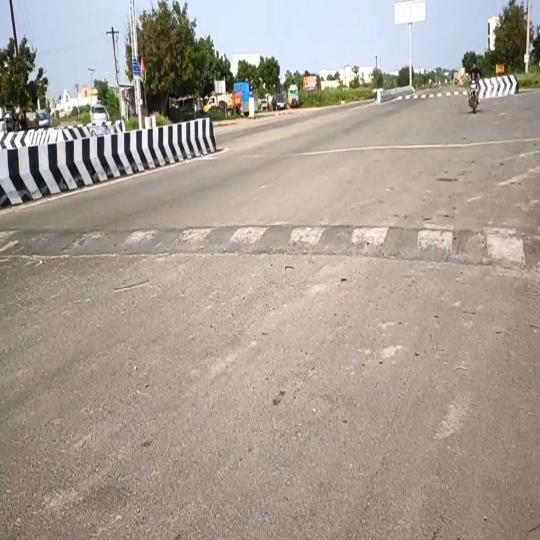Speed Bump: (0, 223, 540, 271), (396, 89, 466, 101)
